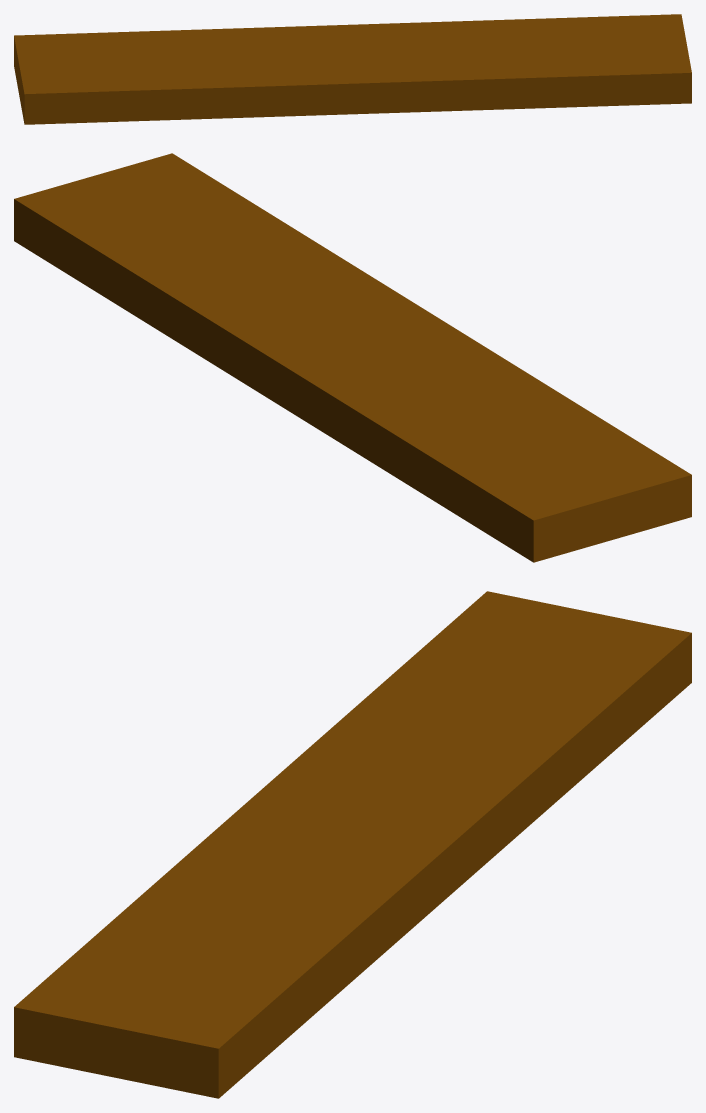
File: Plank.fbx
The picture shows the model from 3 angles, top to bottom: view 1: azimuth 30°, elevation 25°; view 2: azimuth 150°, elevation 25°; view 3: azimuth 270°, elevation 25°; orthographic projection. The views are drawn at different scales.
Parts seen in each view (by area): view 1: pCube1; view 2: pCube1; view 3: pCube1.
Part boxes in pixels (<box>): pCube1: <box>14,14,691,124</box>; pCube1: <box>14,153,691,562</box>; pCube1: <box>14,591,691,1098</box>.
Size of the model in its own units: 4.08 by 0.2079 by 2.56.
